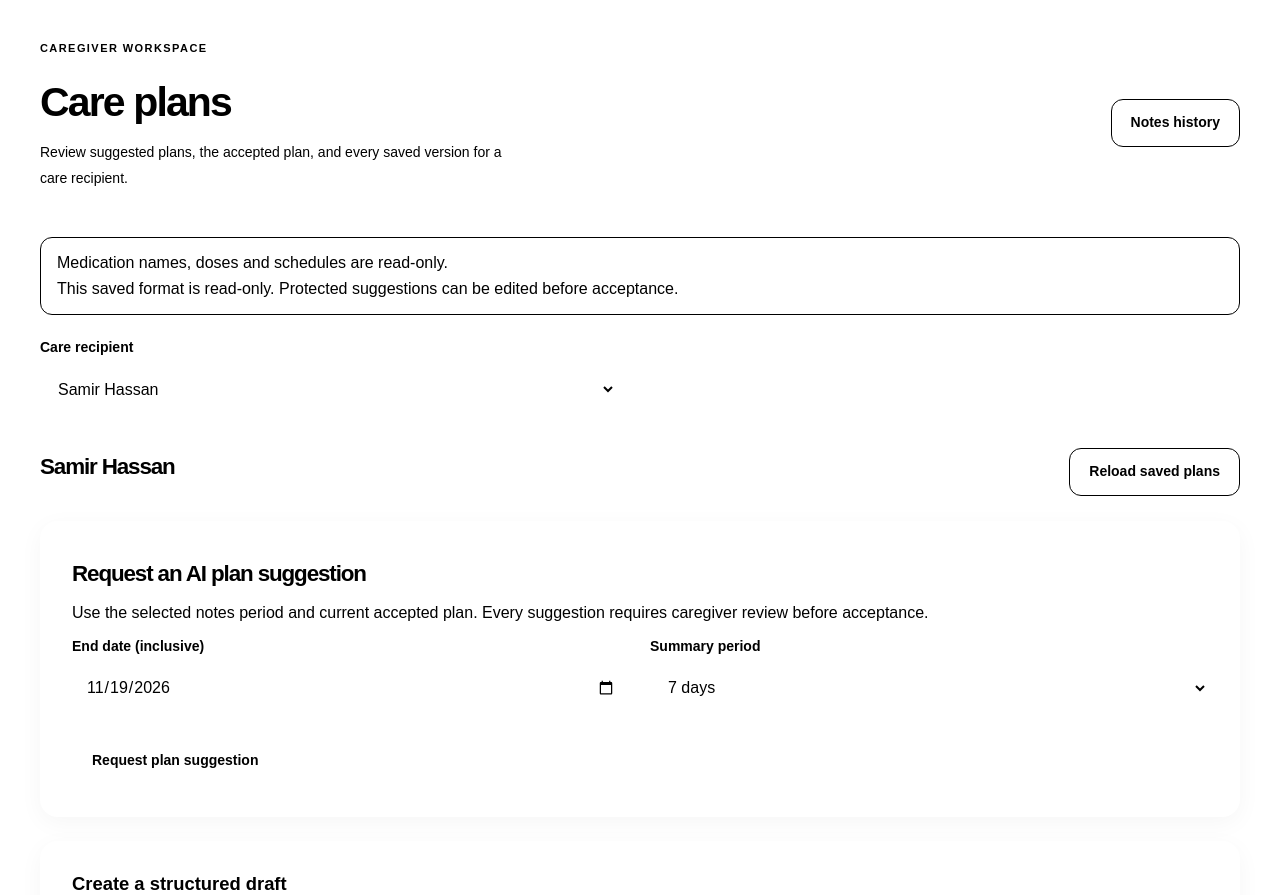
Scenario: care-plan review and authoritative backend decisions › shows unavailable state when BYOK generation fails
The image size is (1280, 895).
Type "2026-10-22" into the date field labelled "End date (inclusive)".
click(351, 688); type("2026-10-22")  # box [72,663,630,713]
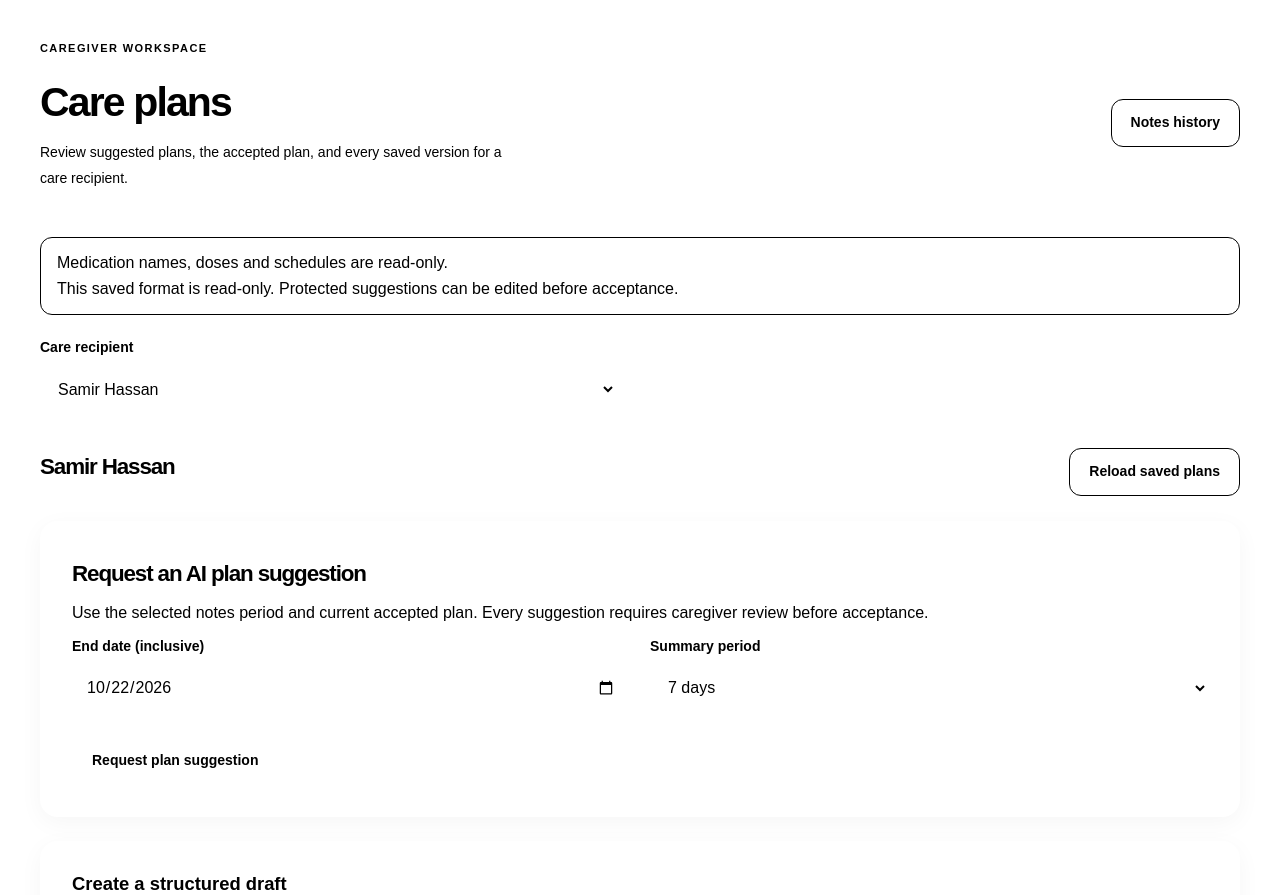
Select "7 days" in the dropdown labelled "Summary period" at point(929, 688), box [650,663,1208,713]
Click the button "Request plan suggestion".
click(175, 761)  # box [72,737,278,785]
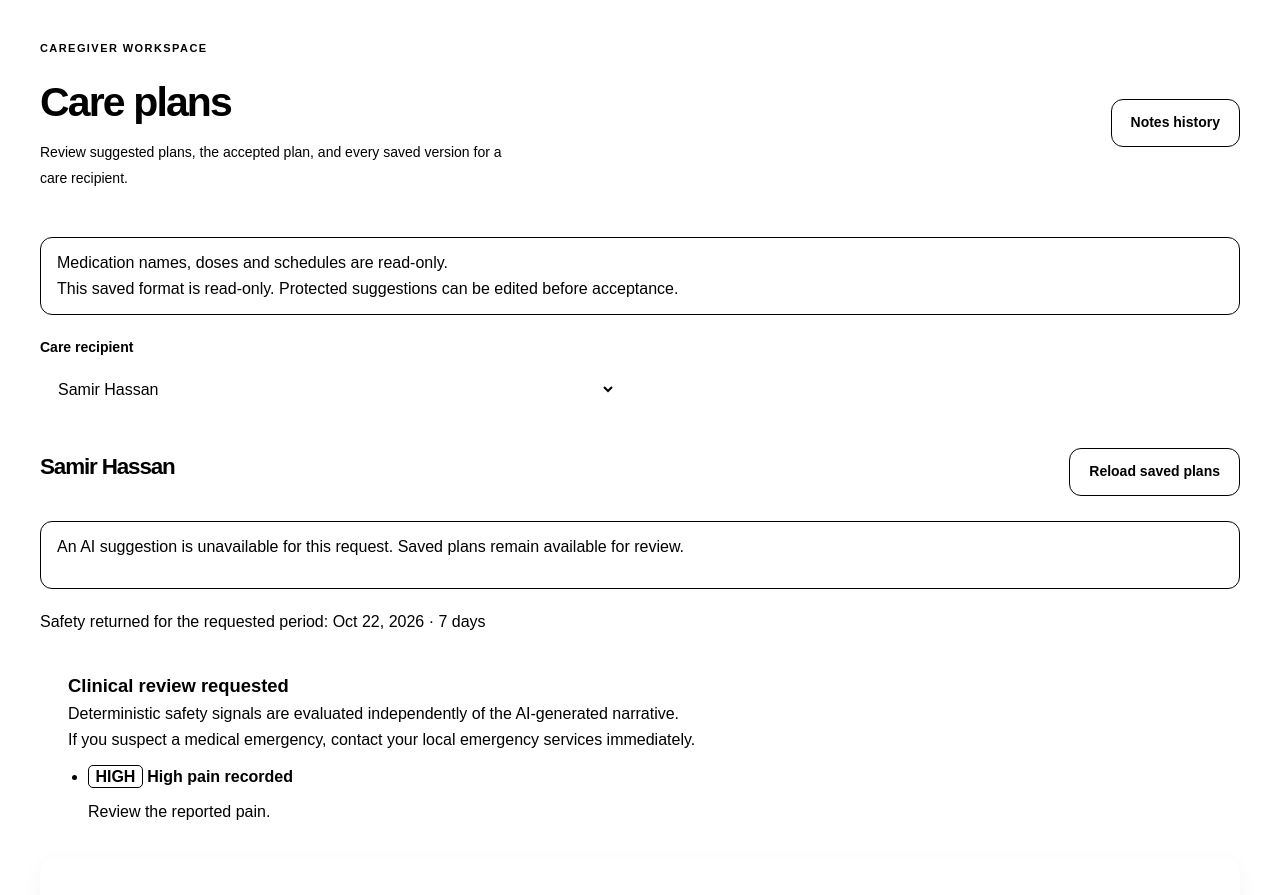
Expected: the text "An AI suggestion is unavailable for this request. Saved plans remain available for review." is shown, [57,538,684,555]
Expected: the heading "Clinical review requested" is shown, [68,675,289,696]
